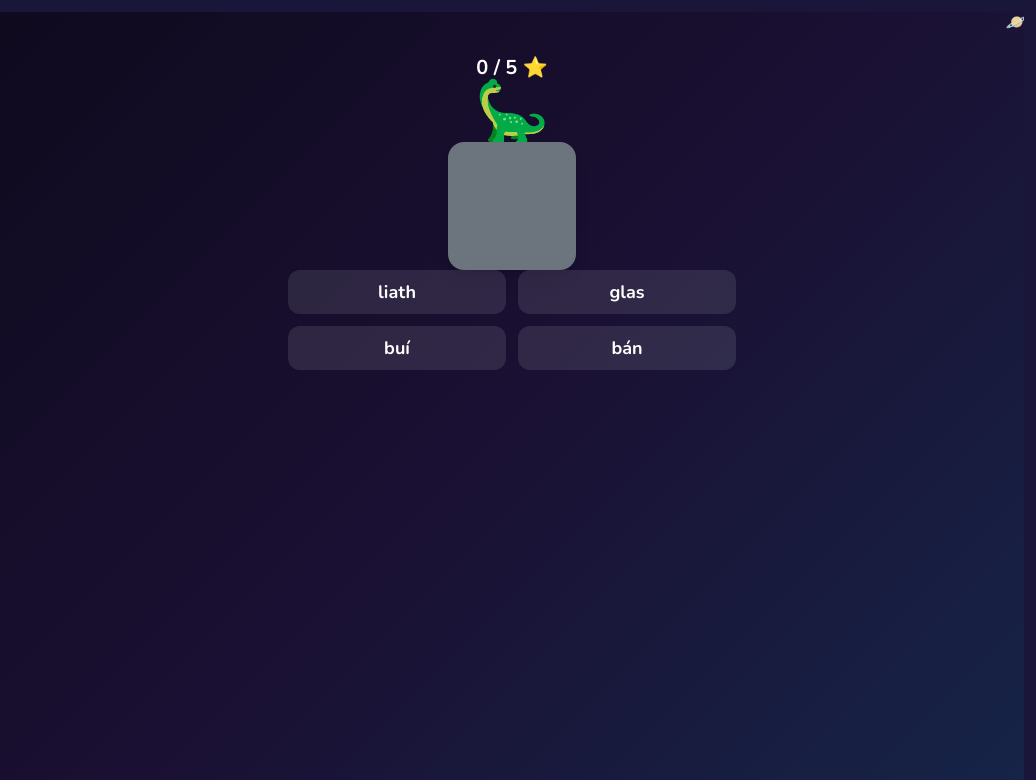
Test: ColorMatch › Victory screen › shows "Imir arís!" (Play again) button on victory
Click the button "liath" at [397, 292], box [288,270,506,314]
Wait 1600 ms
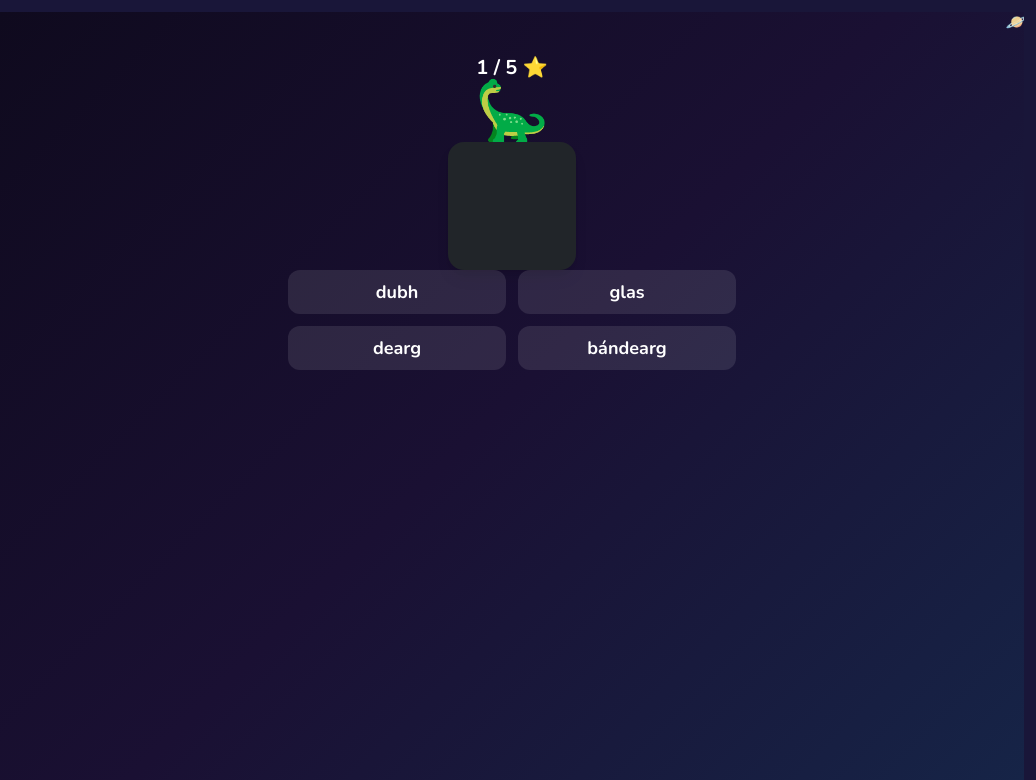
Click the button "dubh" at [397, 292], box [288,270,506,314]
Wait 1600 ms
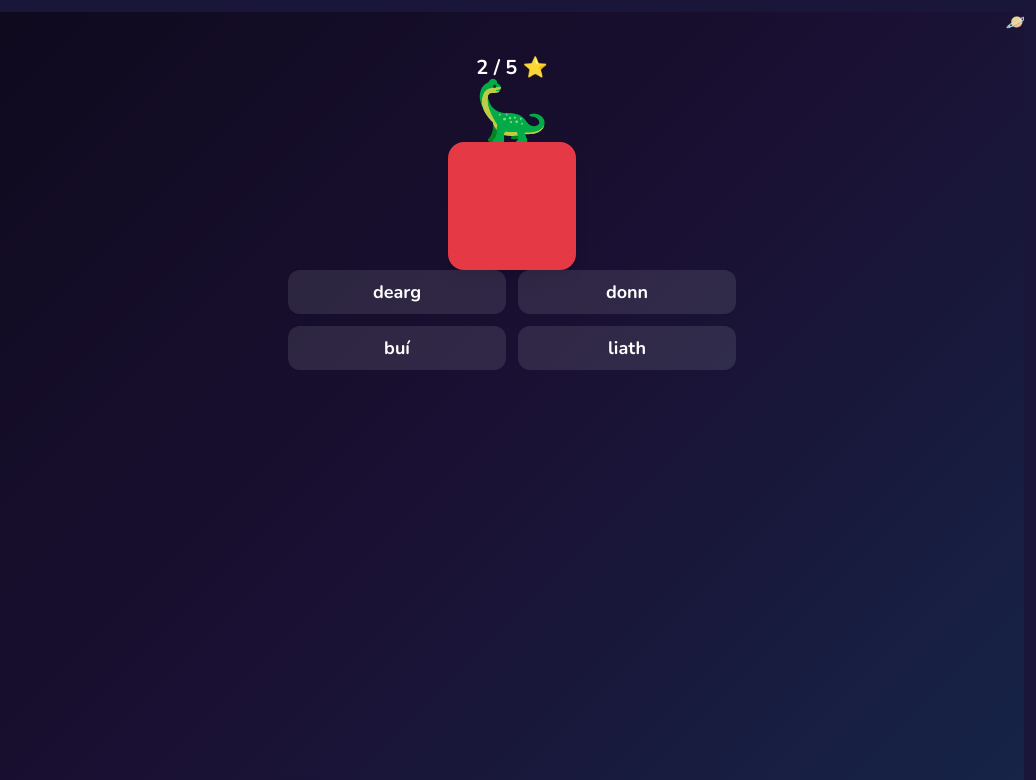
Click the button "dearg" at [397, 292], box [288,270,506,314]
Wait 1600 ms
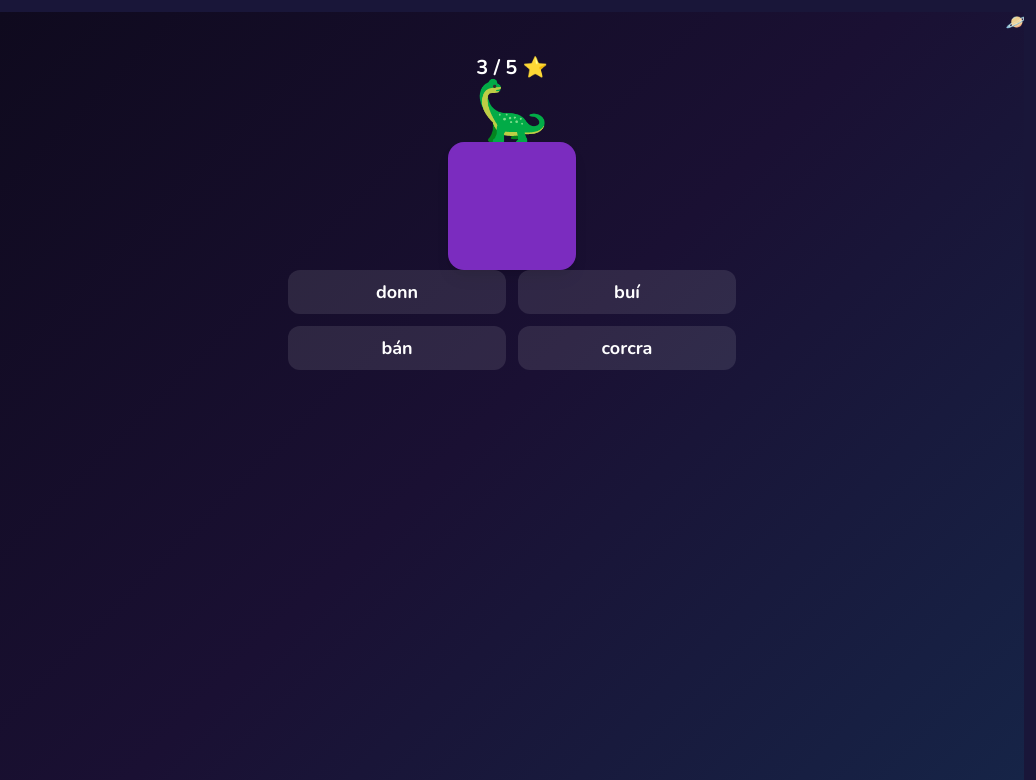
Click the button "corcra" at [627, 348], box [518,326,736,370]
Wait 1600 ms
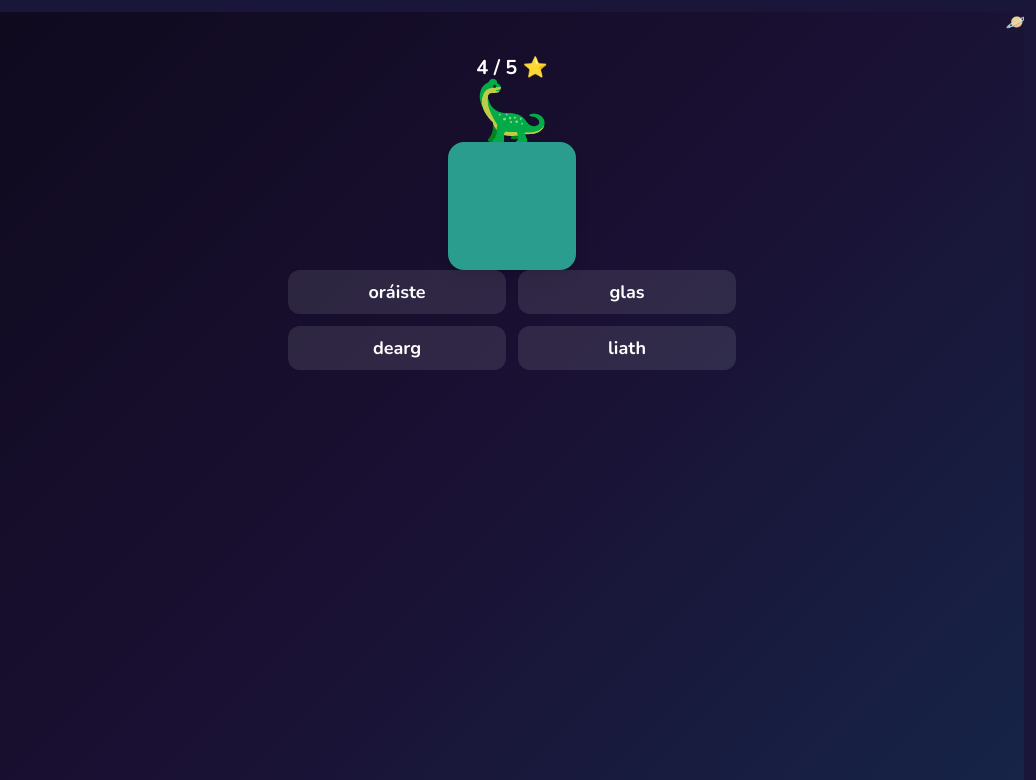
Click the button "glas" at [627, 292], box [518,270,736,314]
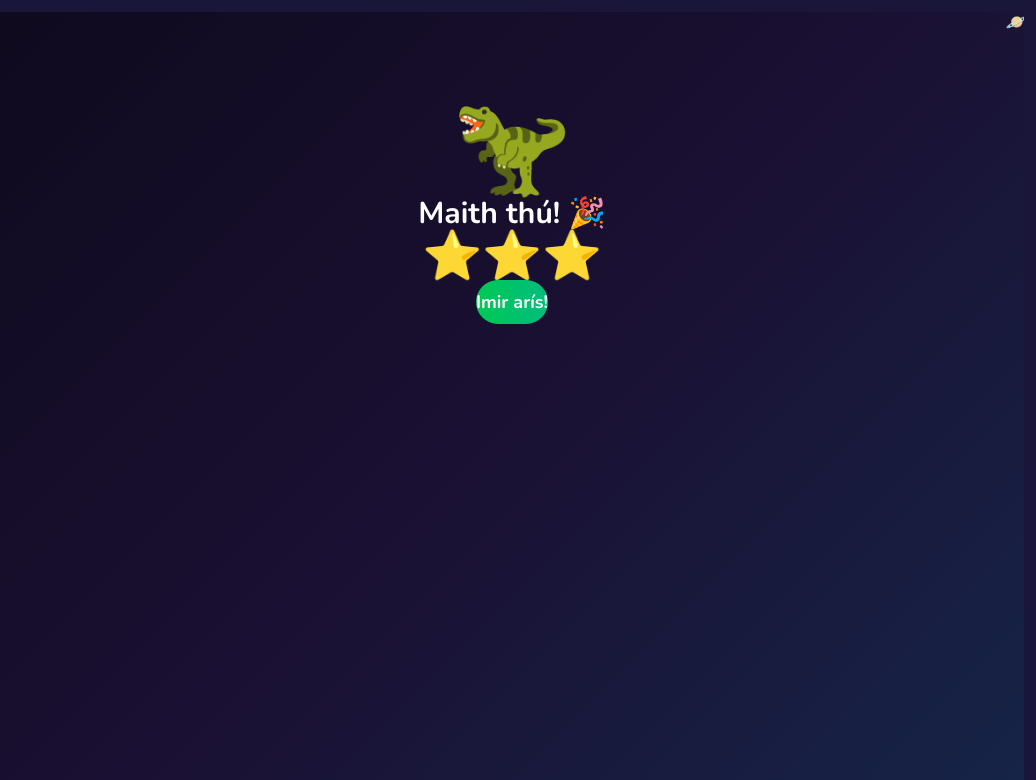
Now the button "Imir arís!" is shown, box [476,280,548,324]
